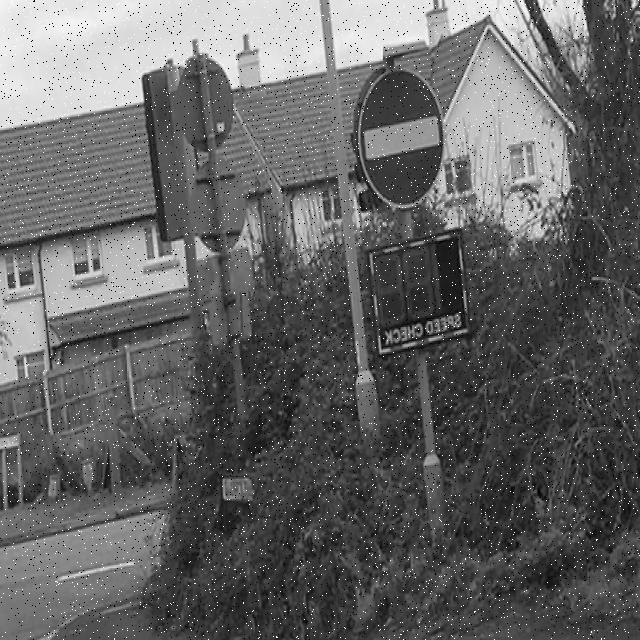no entry: (359, 67, 445, 208)
